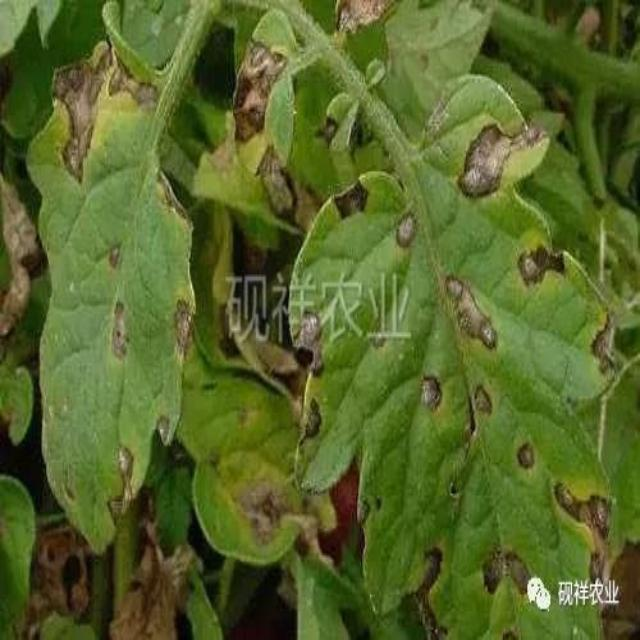Early_blight: (45, 40, 157, 185), (113, 521, 195, 640), (550, 483, 615, 618), (236, 481, 337, 559), (455, 116, 548, 199), (252, 146, 327, 235), (27, 528, 93, 624), (1, 179, 39, 338), (230, 38, 283, 146), (437, 270, 497, 352), (413, 542, 450, 640), (290, 307, 329, 381), (480, 545, 530, 599), (515, 239, 568, 287), (106, 440, 137, 521), (588, 306, 619, 374), (333, 1, 396, 34), (158, 172, 193, 226), (332, 175, 370, 223), (166, 295, 195, 354), (107, 297, 131, 360), (298, 395, 325, 445), (393, 207, 419, 247), (418, 372, 442, 410), (465, 385, 493, 416), (313, 112, 337, 144), (515, 439, 538, 470), (106, 236, 123, 274)
